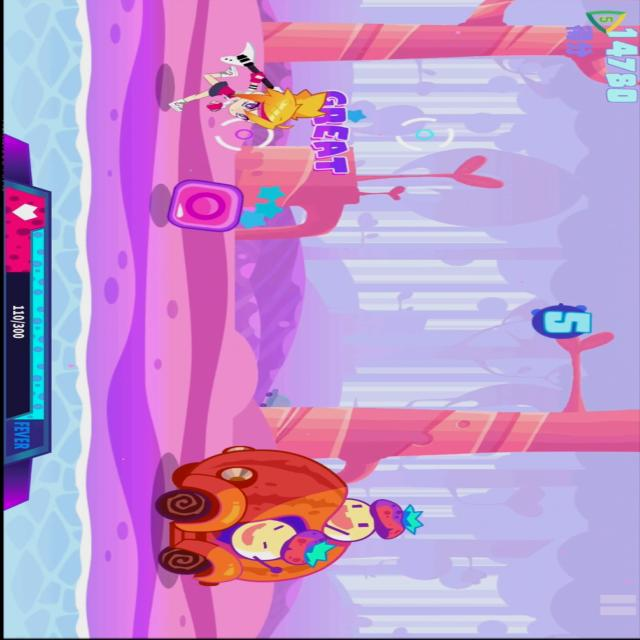Boss-Pumpkin: (145, 442, 429, 598)
Ground-Monster---Cube: (158, 176, 254, 236)
